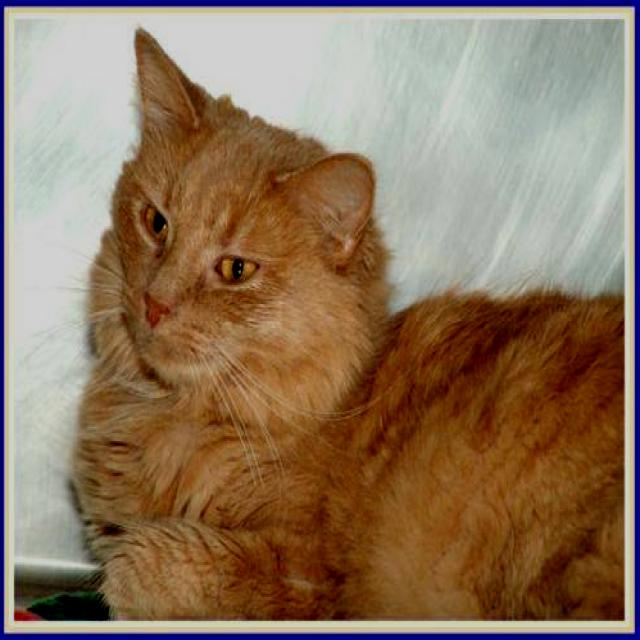Kucing: (43, 66, 612, 602)
